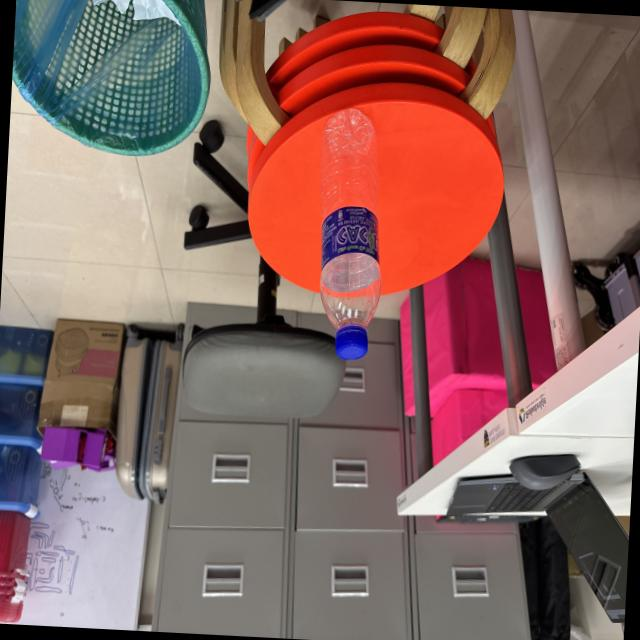plastic_bottle: (304, 98, 395, 372)
